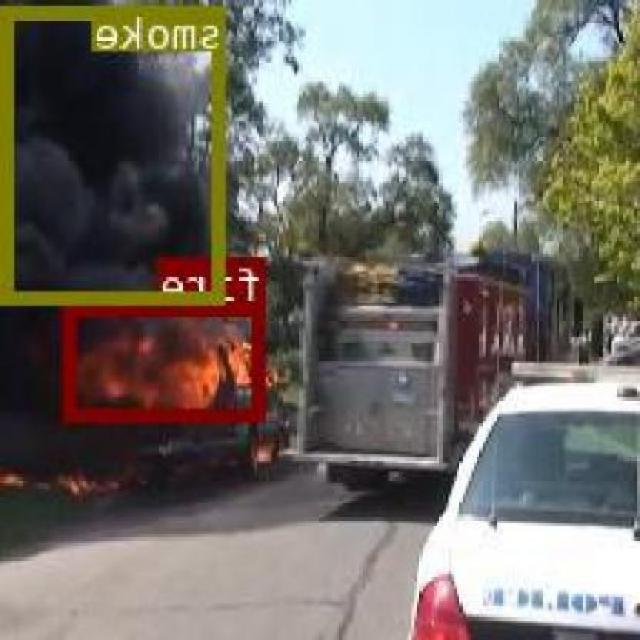Fire: (66, 300, 266, 418)
Smoke: (5, 4, 227, 301)
